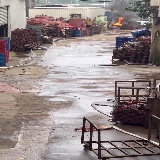fire: (112, 17, 123, 25)
